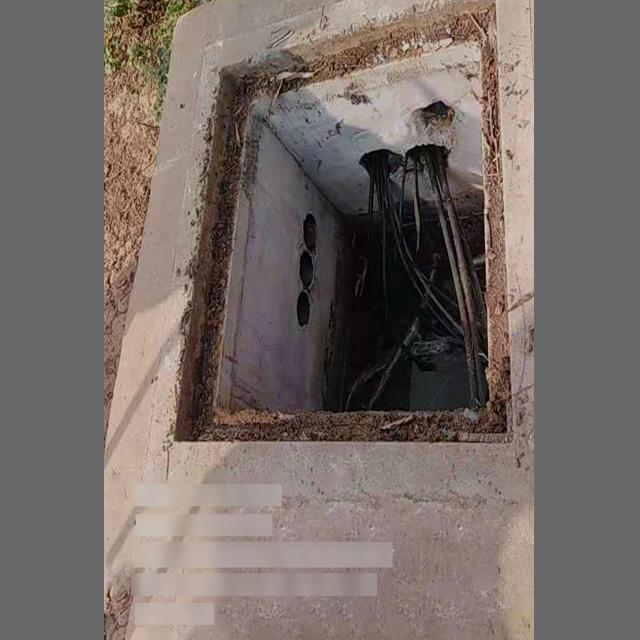lose: (139, 0, 534, 503)
